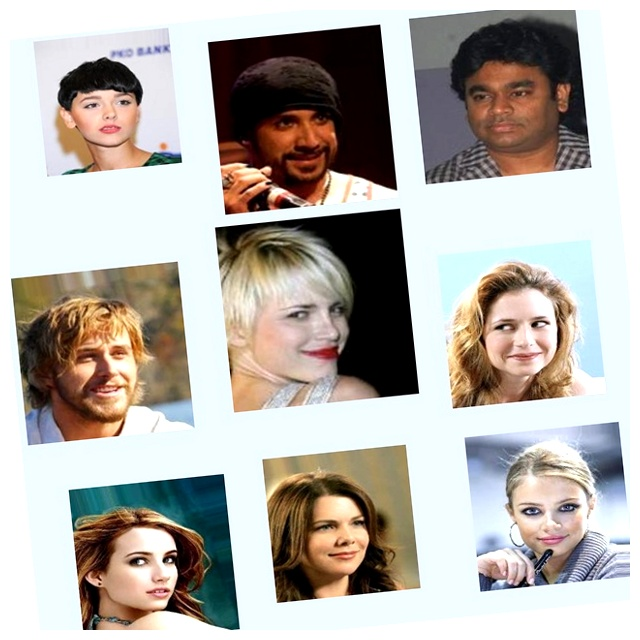celeb_10002: (422, 465, 592, 635)
celeb_2970: (23, 435, 194, 607)
celeb_3: (249, 25, 439, 215)
celeb_4428: (432, 281, 601, 450)
celeb_5695: (220, 445, 379, 603)
celeb_7: (451, 43, 634, 226)
celeb_7007: (82, 0, 231, 138)
celeb_797: (217, 208, 421, 412)
celeb_8335: (9, 217, 192, 401)
